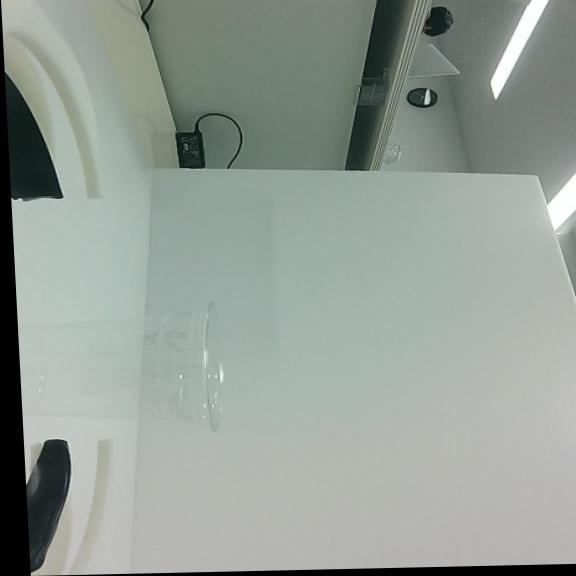Plastik: (17, 302, 231, 431)
